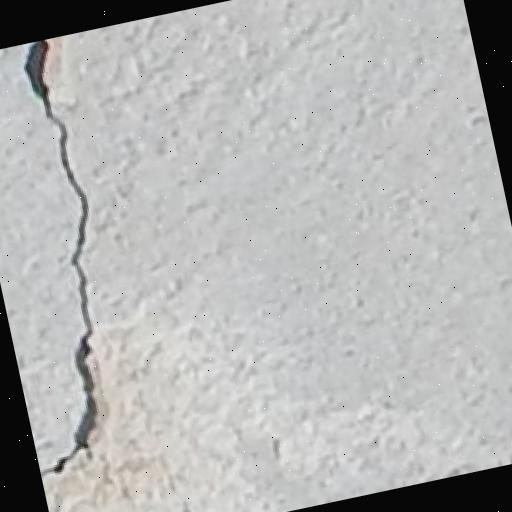spalling: (5, 44, 114, 508)
